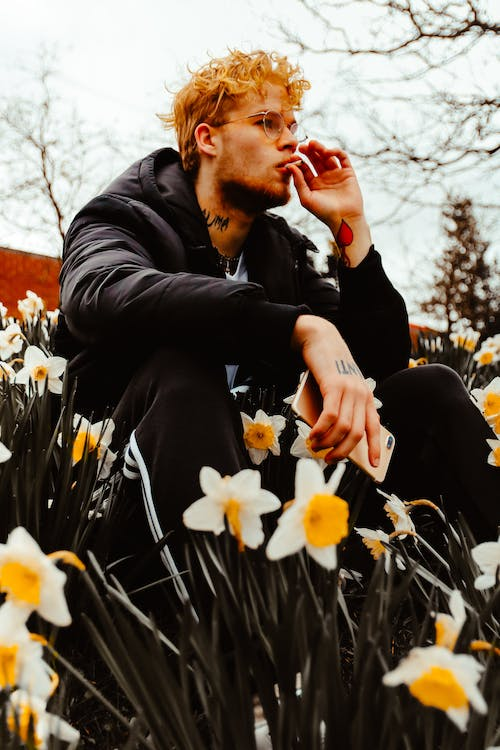cigarette: (282, 154, 307, 170)
